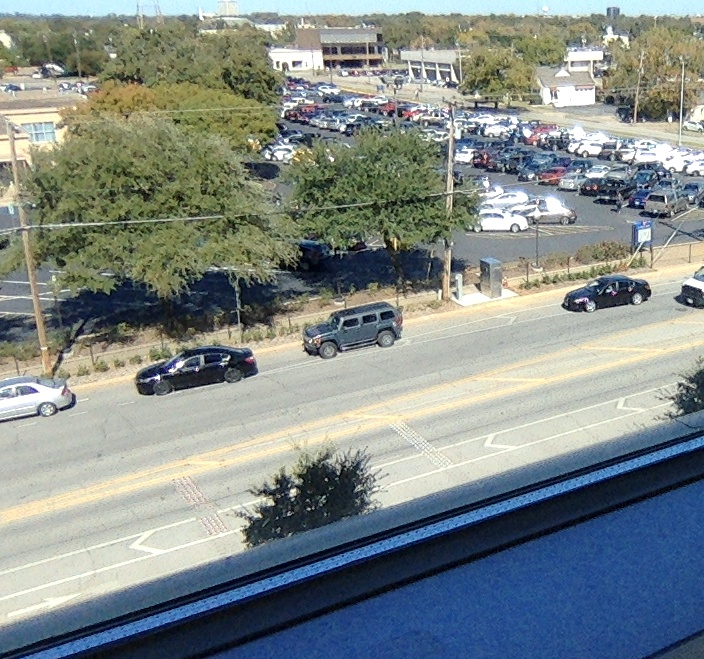car: (300, 300, 404, 359)
